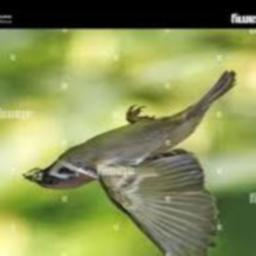Sparrow: (24, 72, 236, 256)
